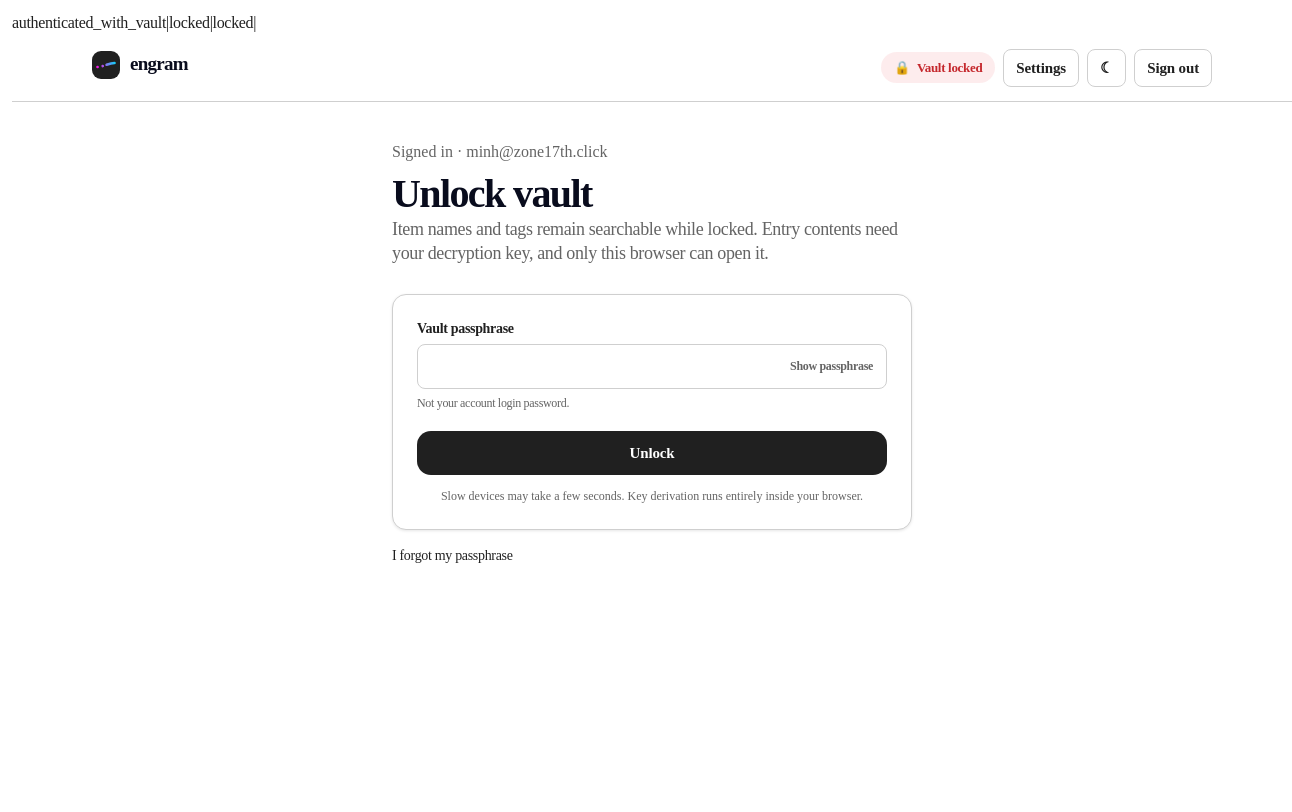
Test case: Task 17A — VaultUnlockFlow & ForgotPassphraseView U4 › FE1-4: an asynchronous wrong-passphrase failure returns keyboard focus to the re-enabled passphrase field
Check: the text with test id "test-vault-probe" reads "authenticated_with_vault|locked|locked|", box [12,14,166,31]
Type "wrong-passphrase-123456" into the password field with test id "unlock-passphrase-input" at (652, 366), box [417,344,887,389]
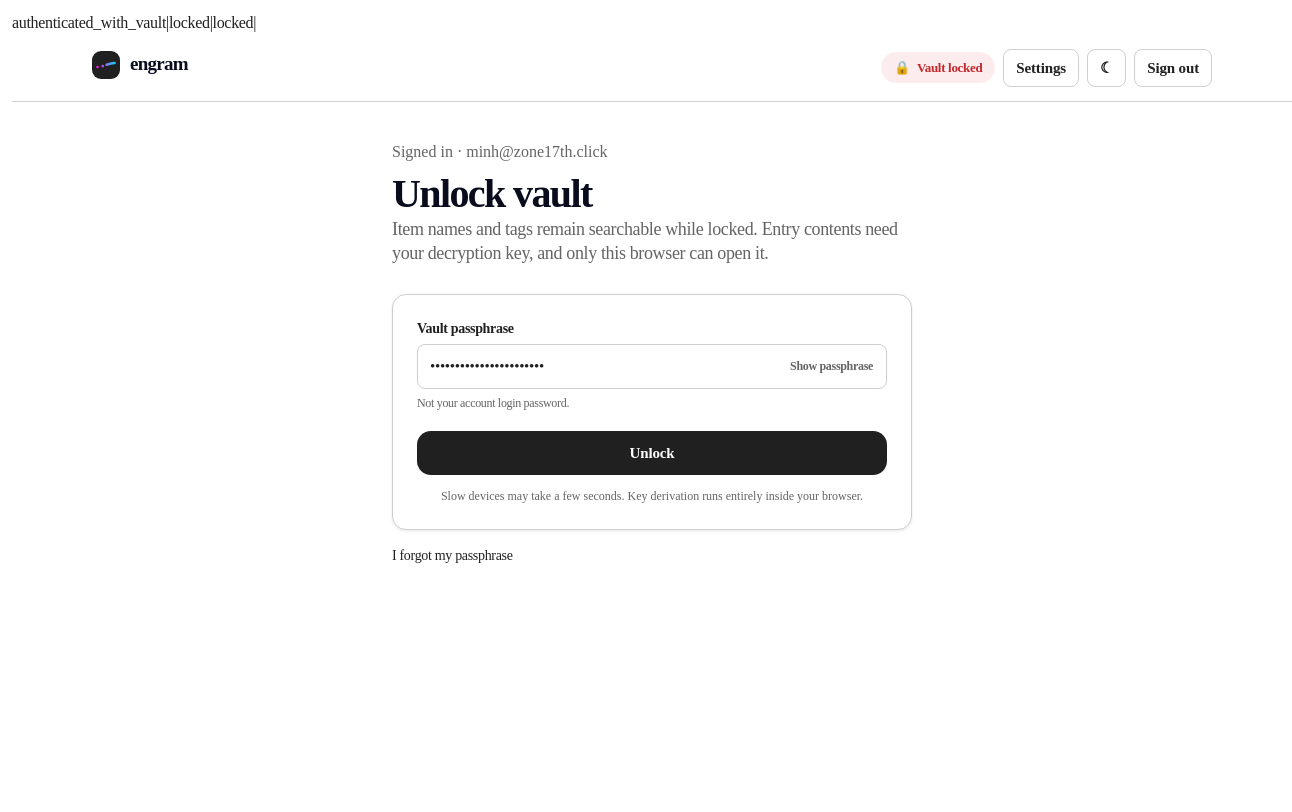
Click the button with test id "unlock-submit-button" at (652, 453), box [417,431,887,475]
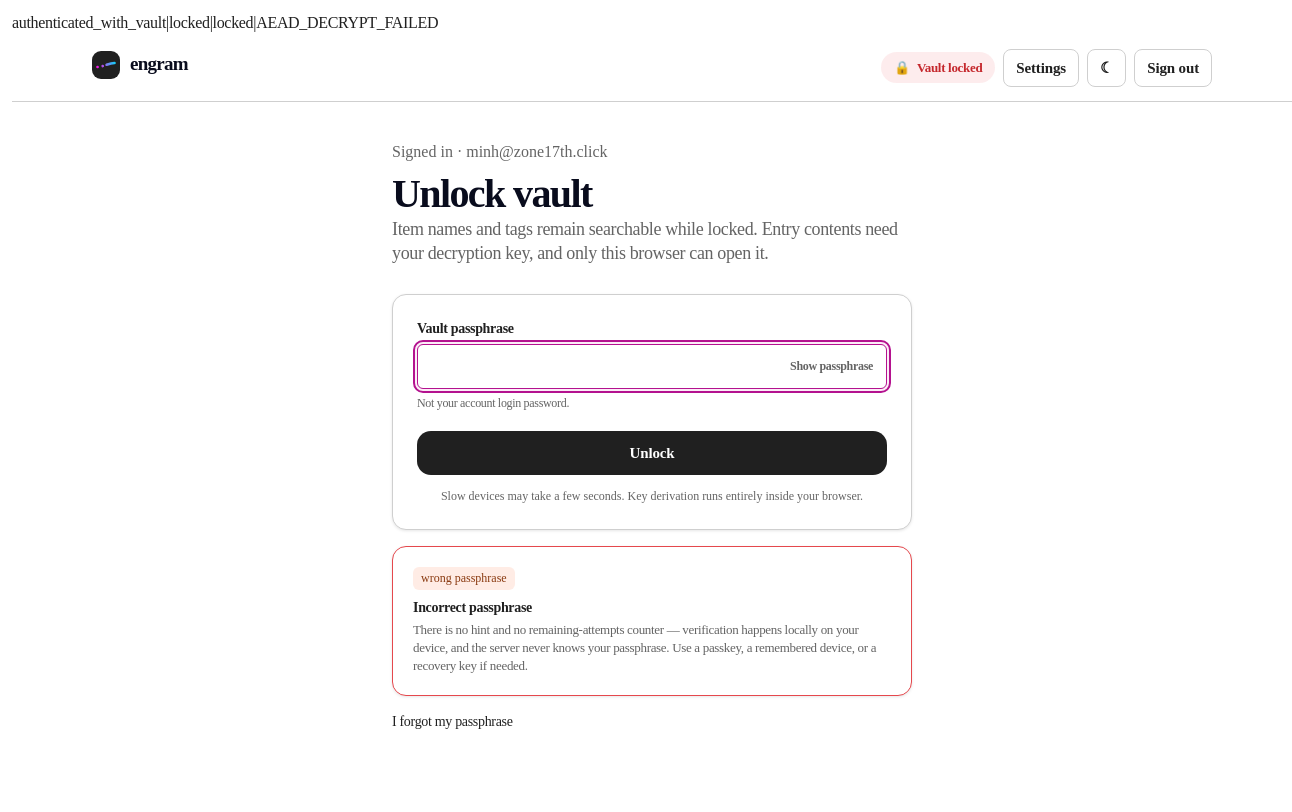
Check: the password field with test id "unlock-passphrase-input" is enabled, box [417,344,887,389]
Check: the element with test id "unlock-error-incorrect-passphrase" is shown, box [392,546,912,696]
